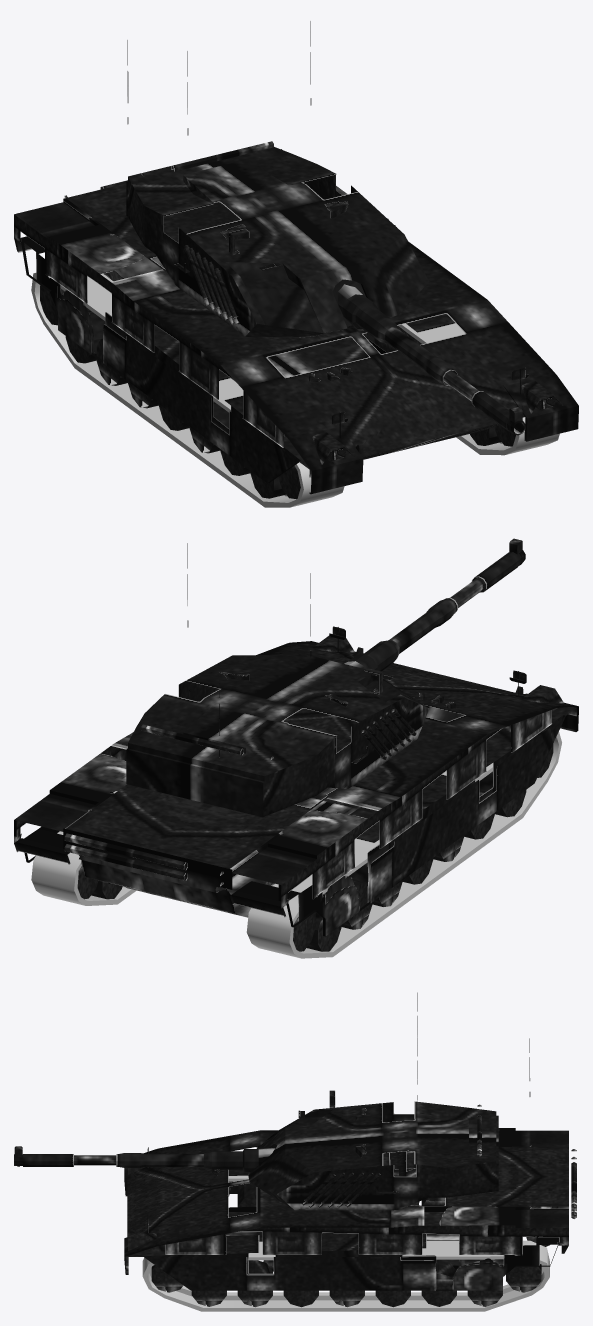
Rendered from Ariete1.fbx.
3 renders of one model, top to bottom at view 1: azimuth 30°, elevation 25°; view 2: azimuth 150°, elevation 25°; view 3: azimuth 270°, elevation 25°, orthographic. The views are drawn at different scales.
Parts seen in each view (by area): view 1: polySurface552, polySurface605, polySurface621, polySurface554, polySurface83, polySurface628, polySurface624; view 2: polySurface552, polySurface605, polySurface621, polySurface554, polySurface83, polySurface629, polySurface628, polySurface622, polySurface626, polySurface627; view 3: polySurface552, polySurface605, polySurface83, polySurface554, polySurface619, polySurface82, polySurface610, polySurface6, polySurface611, polySurface613, polySurface612, polySurface617 (+2 smaller).
Part boxes in pixels (<box>): polySurface552: <box>14,40,578,494</box>; polySurface605: <box>126,21,429,337</box>; polySurface621: <box>31,273,344,507</box>; polySurface554: <box>338,284,525,435</box>; polySurface83: <box>398,323,559,455</box>; polySurface628: <box>65,311,105,363</box>; polySurface624: <box>189,401,229,453</box>; polySurface552: <box>14,626,578,936</box>; polySurface605: <box>126,543,429,817</box>; polySurface621: <box>246,731,561,958</box>; polySurface554: <box>324,538,525,714</box>; polySurface83: <box>31,791,136,905</box>; polySurface629: <box>323,879,372,929</box>; polySurface628: <box>307,912,341,951</box>; polySurface622: <box>293,912,315,951</box>; polySurface626: <box>348,862,402,906</box>; polySurface627: <box>479,771,526,817</box>; polySurface552: <box>124,1038,576,1290</box>; polySurface605: <box>248,992,498,1210</box>; polySurface83: <box>142,1240,549,1311</box>; polySurface554: <box>14,1146,274,1171</box>; polySurface619: <box>421,1259,456,1306</box>; polySurface82: <box>506,1264,541,1292</box>; polySurface610: <box>237,1260,272,1307</box>; polySurface6: <box>151,1265,183,1292</box>; polySurface611: <box>283,1290,318,1307</box>; polySurface613: <box>375,1290,410,1307</box>; polySurface612: <box>329,1290,364,1307</box>; polySurface617: <box>191,1290,226,1306</box>.
Size of the model in its own units: 15.82 by 18.94 by 38.09.
